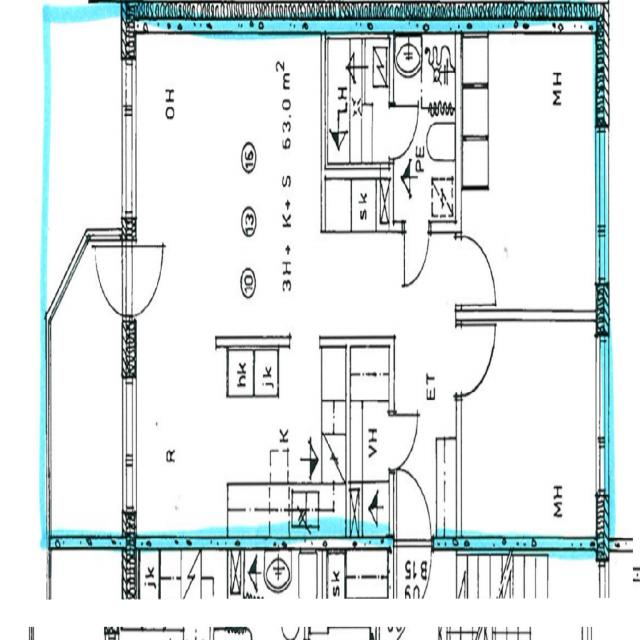door: (121, 246, 169, 316), (88, 246, 136, 316), (397, 462, 431, 550), (397, 536, 431, 622), (455, 325, 494, 395), (455, 236, 494, 305), (389, 415, 419, 469), (388, 106, 418, 158), (404, 220, 428, 283)
